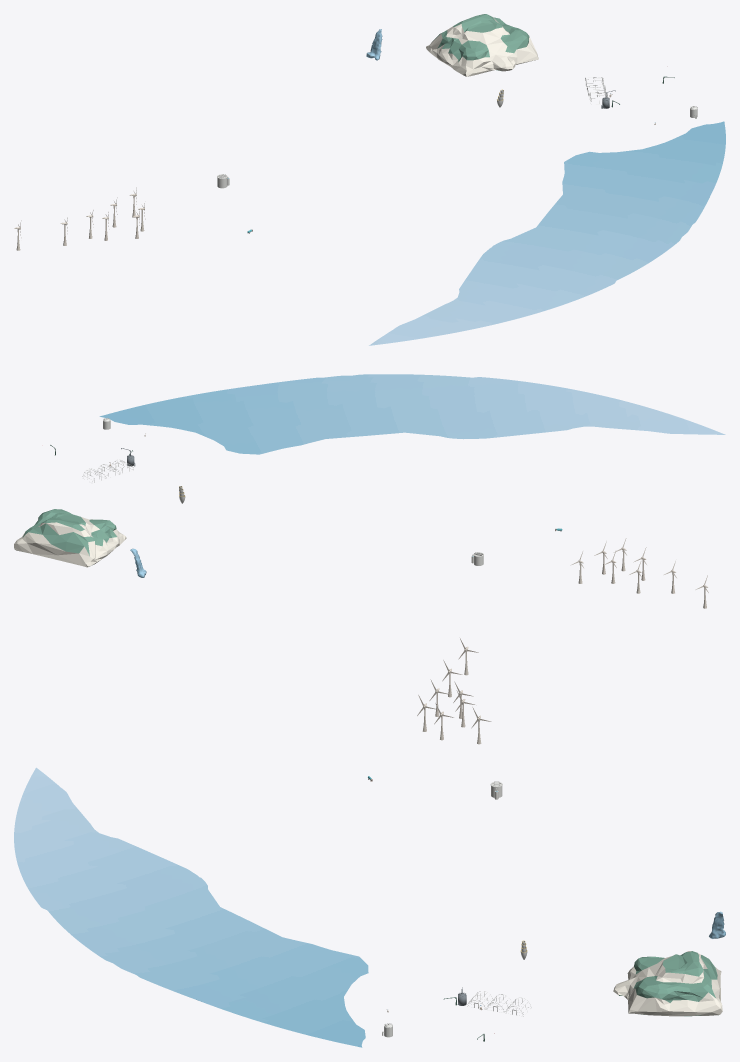
Rendered from map_F.glb.
3 views of the same model, one above another, from view 1: azimuth 30°, elevation 25°; view 2: azimuth 150°, elevation 25°; view 3: azimuth 270°, elevation 25° (orthographic). The views are drawn at different scales.
Visible parts, largest first — view 1: water, Volume_Mesher, Turbine; view 2: water, Volume_Mesher, Turbine; view 3: water, Volume_Mesher, Turbine.
Part boxes in pixels (x1,y1,x2,y2): water: (369, 121, 725, 345); Volume_Mesher: (426, 14, 538, 76); Turbine: (14, 187, 145, 250); water: (99, 374, 725, 454); Volume_Mesher: (14, 509, 126, 567); Turbine: (570, 538, 708, 608); water: (14, 767, 368, 1047); Volume_Mesher: (613, 951, 722, 1016); Turbine: (417, 638, 491, 744).
Size of the model in its own units: 267 by 15.16 by 213.
Materials: 2 (1 with a texture image).
